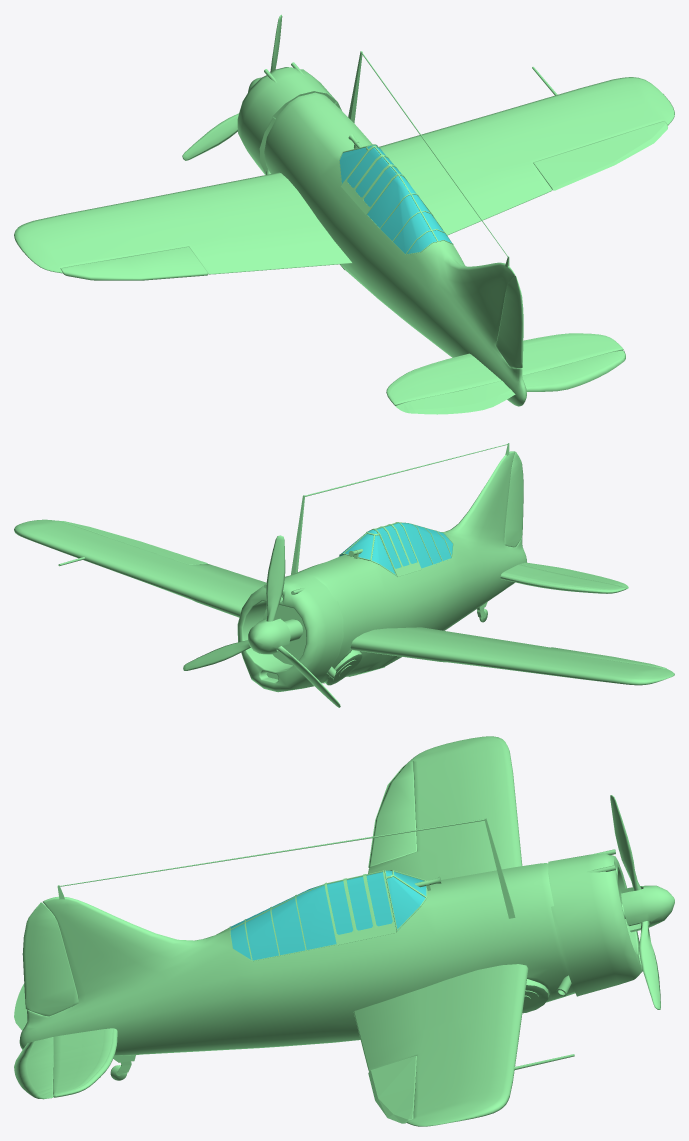
File: F2A Buffalo_flight 1.fbx
The picture shows the model from 3 angles, top to bottom: view 1: azimuth 30°, elevation 25°; view 2: azimuth 150°, elevation 25°; view 3: azimuth 270°, elevation 25°; orthographic projection. The views are drawn at different scales.
Parts seen in each view (by area): view 1: Shape002.003, Wirnik.003; view 2: Shape002.003, Wirnik.003; view 3: Shape002.003, Wirnik.003.
Part boxes in pixels (x1,y1,x2,y2): Shape002.003: (14, 51, 674, 414); Wirnik.003: (182, 14, 282, 160); Shape002.003: (14, 443, 674, 692); Wirnik.003: (183, 535, 340, 707); Shape002.003: (14, 736, 642, 1126); Wirnik.003: (610, 795, 674, 1009).
Bounding box in the file's own units: 1055 × 776 × 370.
